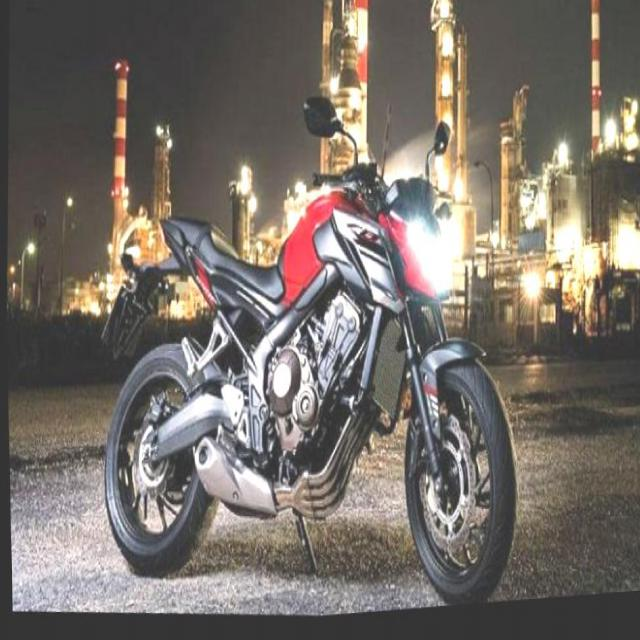CB650R: (92, 144, 528, 634)
